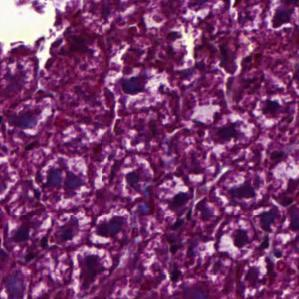inflammation: (68, 246, 114, 291), (216, 218, 260, 261), (90, 212, 135, 248), (116, 72, 155, 99)
